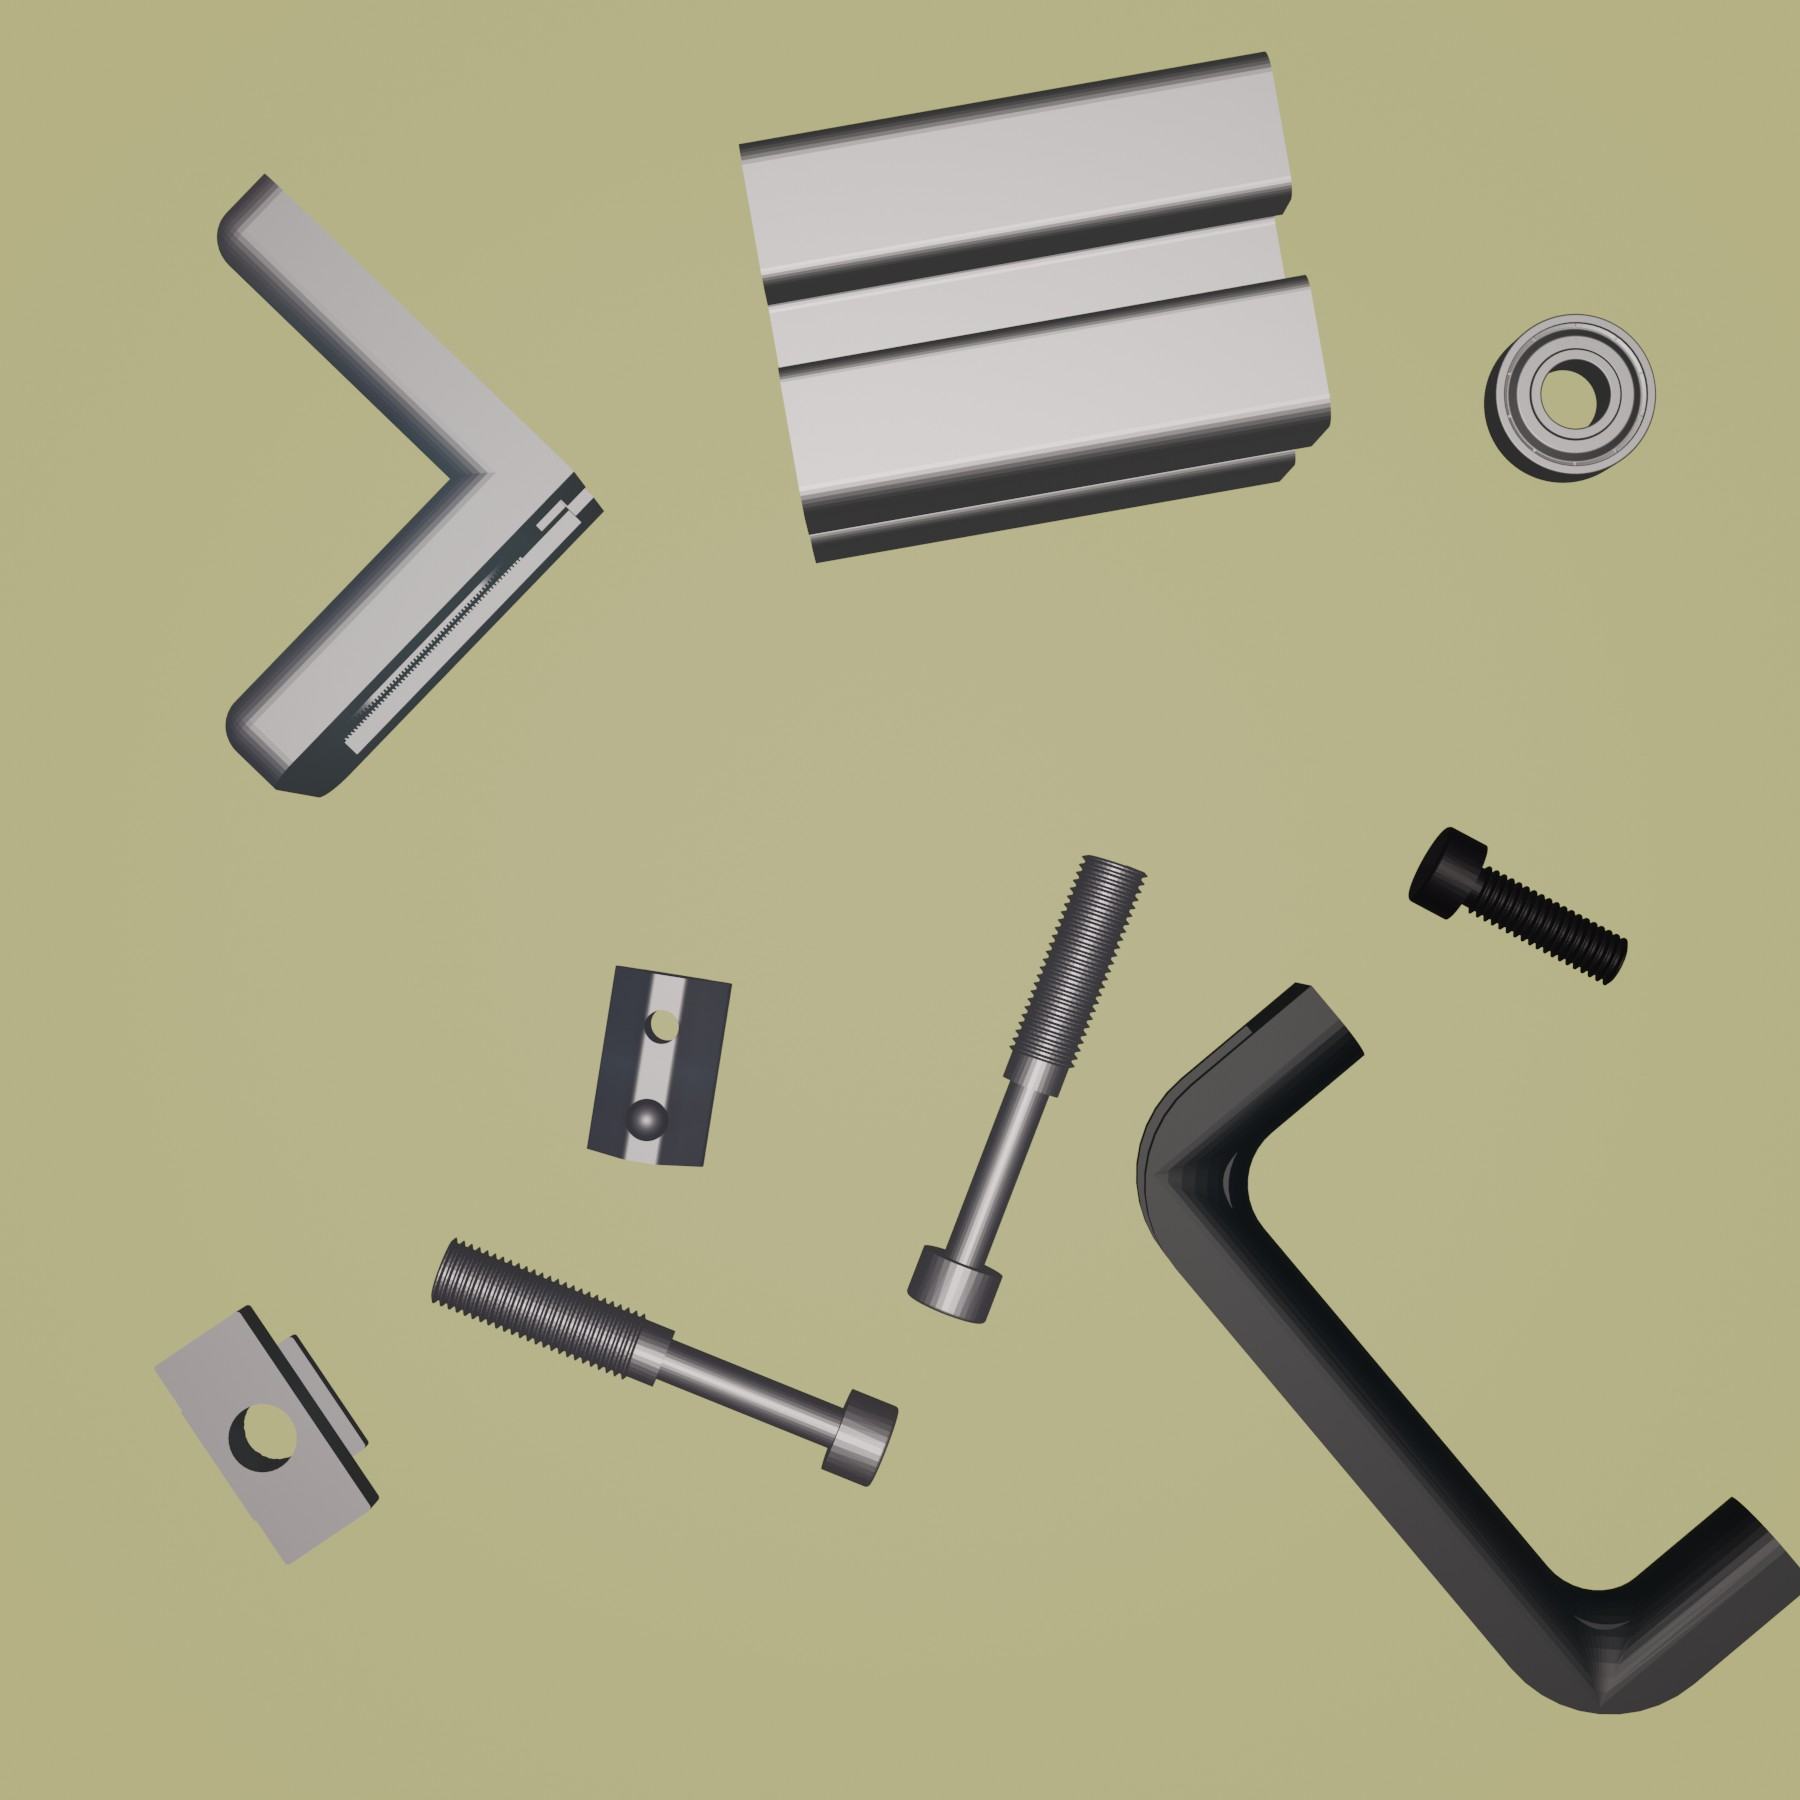Aluminium Extension: (735, 45, 1334, 569)
Ball Bearing: (1479, 308, 1662, 486)
Multiwinkel: (216, 170, 605, 799)
Pull Handle: (1132, 981, 1800, 1719)
Shoulder Socket Head Cap Screw: (429, 1235, 902, 1488), (907, 851, 1151, 1329)
Socket Head Cap Screw: (1404, 823, 1634, 987)
T Nut Square: (152, 1301, 386, 1569)
T Spring Nut: (582, 961, 737, 1170)
